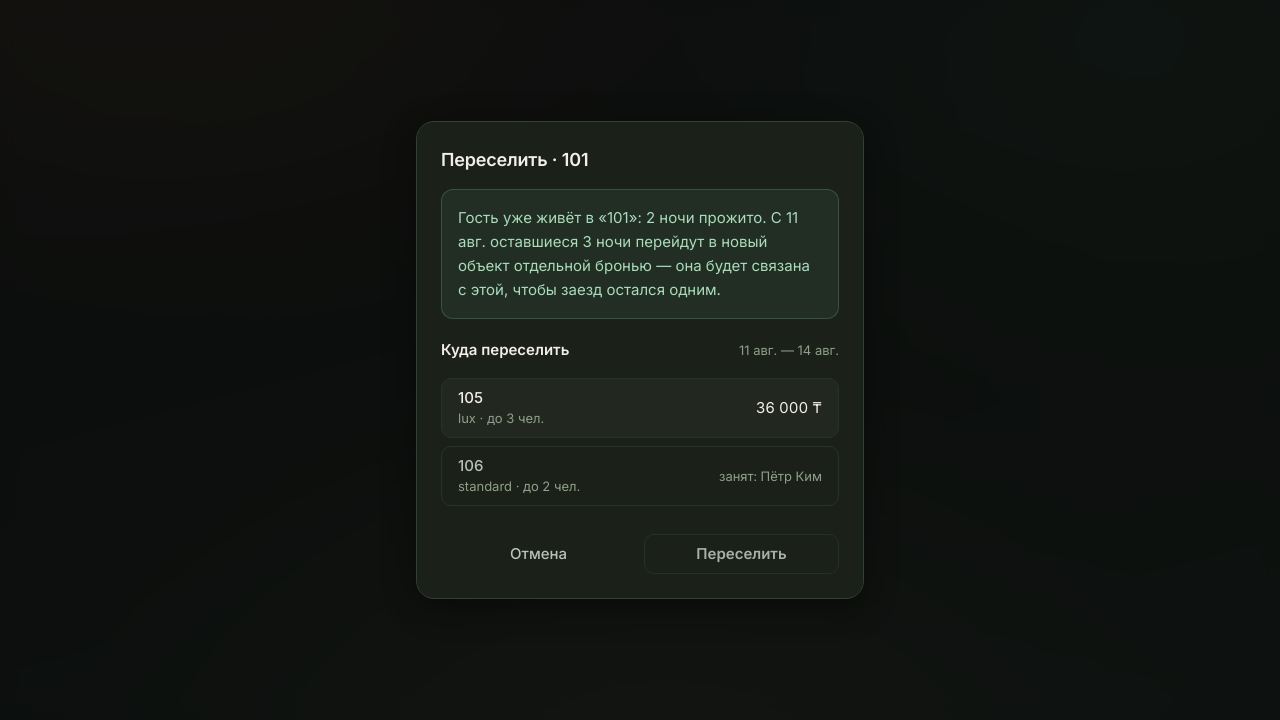
it: §38 переселение показывает последствие до того, как оно случится › после переселения говорит, что деньги ушли за гостем
Click the button "105 lux · до 3 чел. 36 000 ₸" at [491, 418], box left=441, top=378, right=839, bottom=438
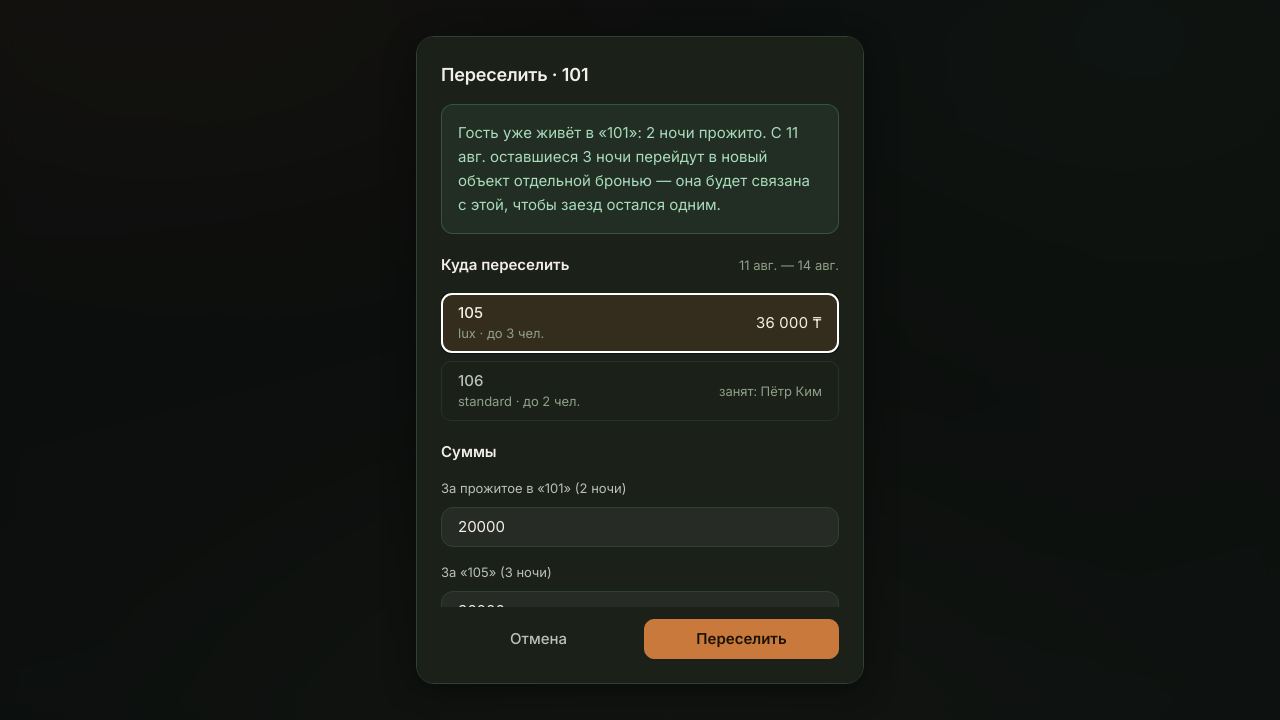
Click the button "Переселить" at [742, 639], box left=644, top=619, right=839, bottom=659
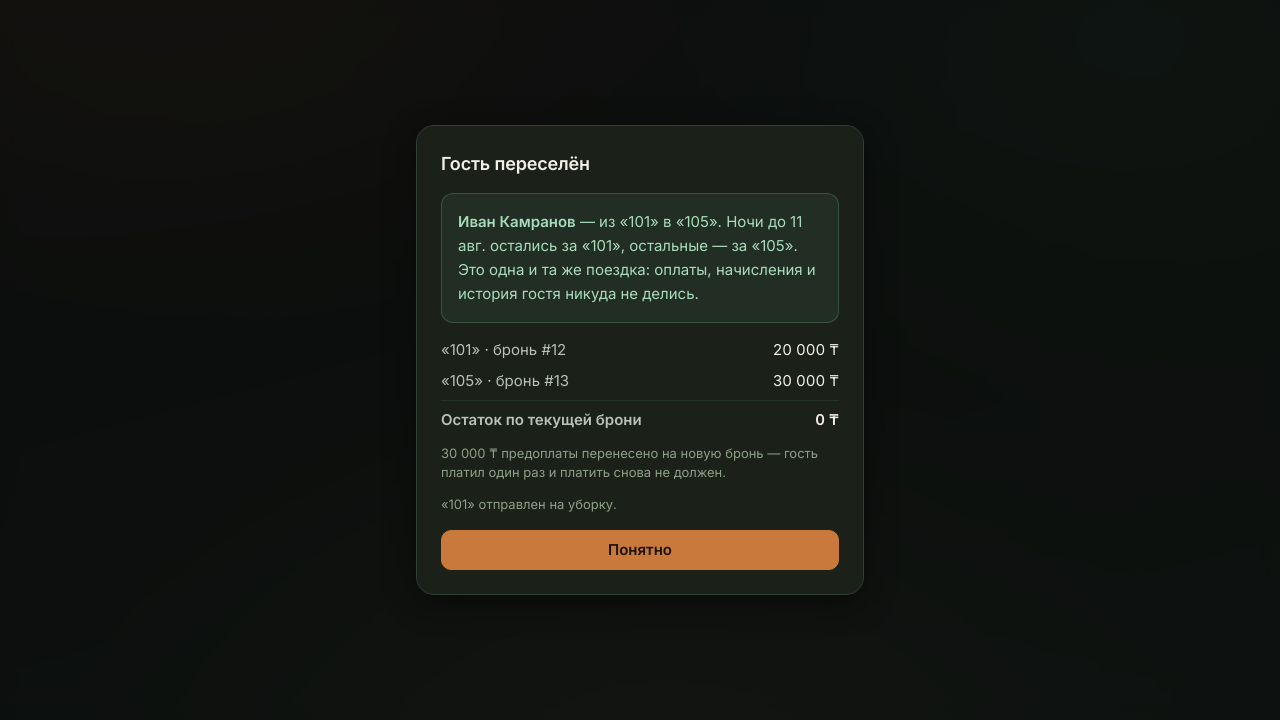
Result: the heading "Гость переселён" is shown at left=441, top=153, right=590, bottom=174
Result: the text "«101» отправлен на уборку." is shown at left=441, top=496, right=617, bottom=512
